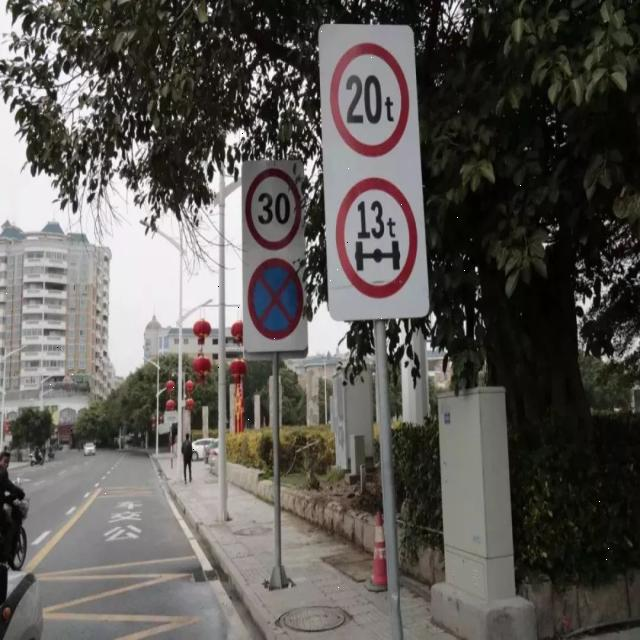speed limit 30: (246, 167, 301, 250)
